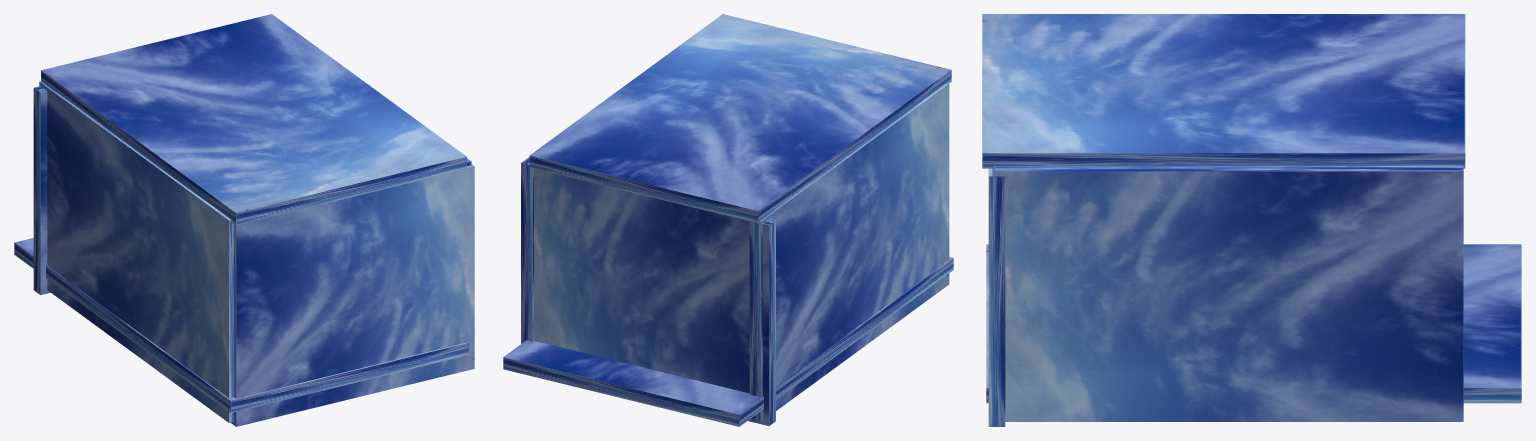
Rendered from haikeiWall.fbx.
3 views of the same model, side by side, from view 1: azimuth 30°, elevation 25°; view 2: azimuth 150°, elevation 25°; view 3: azimuth 270°, elevation 25° (orthographic). The views are drawn at different scales.
Visible parts, largest first — view 1: Box006, Box005, Box002, Box001, Box004; view 2: Box006, Box004, Box002, Box001, Box003; view 3: Box003, Box006, Box001, Box005.
Part boxes in pixels (box(x1,y1,x2,y2)): Box006: box(41, 14, 466, 225); Box005: box(231, 164, 474, 426); Box002: box(39, 81, 234, 422); Box001: box(14, 238, 469, 412); Box004: box(33, 86, 50, 294); Box006: box(529, 14, 951, 223); Box004: box(534, 168, 775, 425); Box002: box(749, 83, 949, 421); Box001: box(503, 257, 953, 426); Box003: box(521, 157, 533, 343); Box003: box(993, 166, 1463, 421); Box006: box(982, 14, 1465, 168); Box001: box(986, 244, 1521, 403); Box005: box(988, 168, 1005, 426).
Bounding box in the file's own units: 7744 × 11687 × 6399.
Materials: 1 (1 with a texture image).
